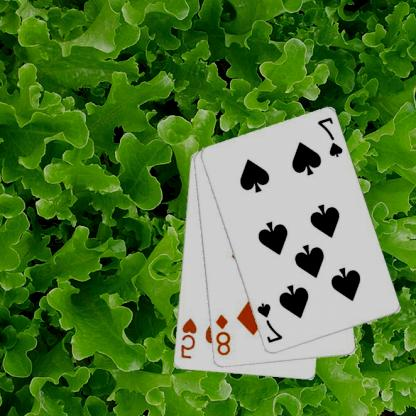5H: (179, 316, 199, 360)
7S: (316, 114, 346, 159), (256, 300, 285, 345)
8D: (214, 312, 234, 357)
